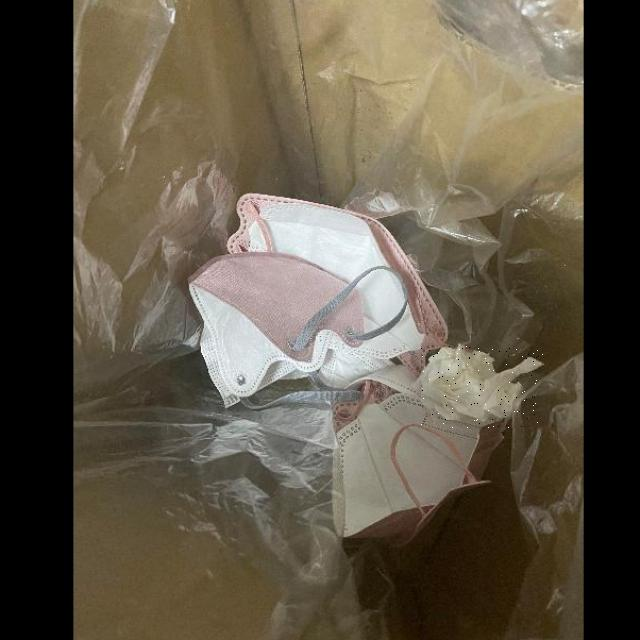paper: (422, 343, 543, 428)
